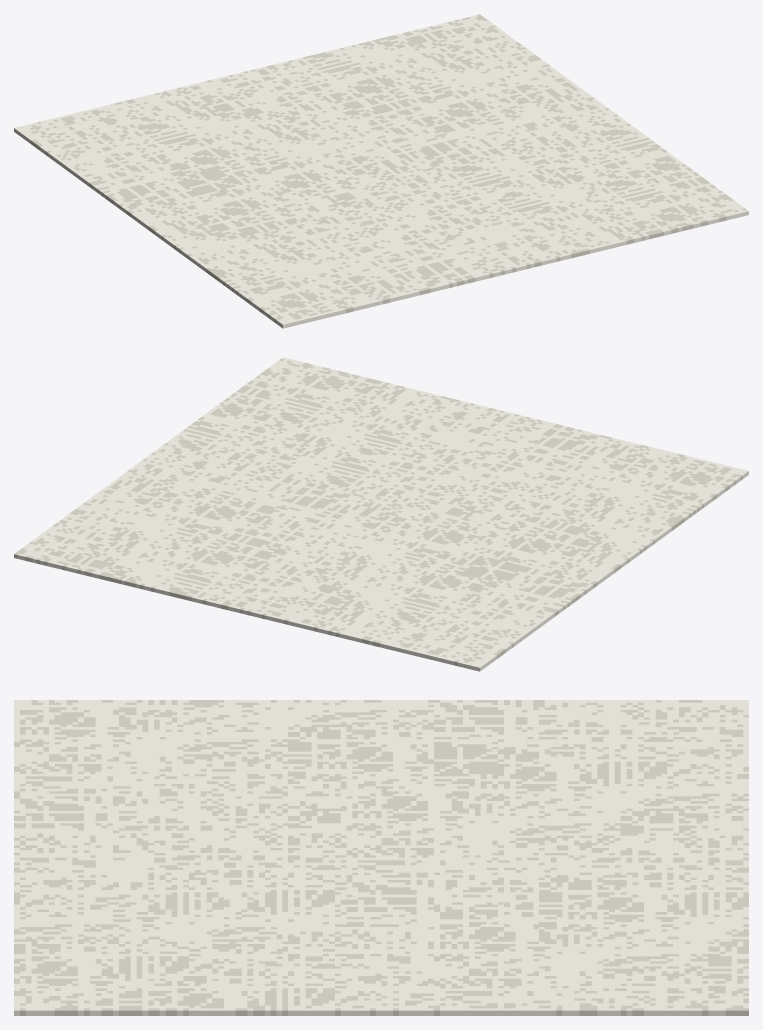
File: Hiver sol.obj
3 renders of one model, top to bottom at view 1: azimuth 30°, elevation 25°; view 2: azimuth 150°, elevation 25°; view 3: azimuth 270°, elevation 25°, orthographic. The views are drawn at different scales.
Parts seen in each view (by area): view 1: Hiver sol; view 2: Hiver sol; view 3: Hiver sol.
Boxes of the visible parts, left/top/right/bottom form: Hiver sol: left=14, top=14, right=748, bottom=328; Hiver sol: left=14, top=357, right=748, bottom=671; Hiver sol: left=14, top=700, right=748, bottom=1015.
Bounding box in the file's own units: 126 × 1 × 126.
